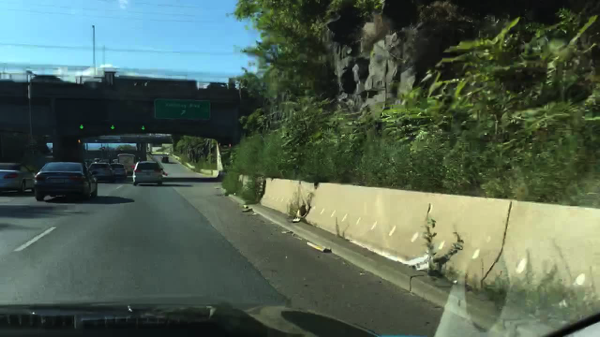car: (32, 162, 98, 203), (0, 162, 37, 195), (132, 160, 164, 187), (88, 162, 115, 183), (109, 162, 128, 181), (29, 75, 66, 83), (207, 81, 227, 90), (161, 156, 169, 163), (101, 159, 112, 164), (93, 158, 101, 163)
traffic light: (110, 122, 117, 132), (140, 123, 147, 132), (80, 124, 86, 131), (77, 138, 81, 145)
traffic sign: (154, 97, 211, 121), (30, 145, 37, 152)
truck: (102, 74, 198, 94), (117, 154, 136, 176)
